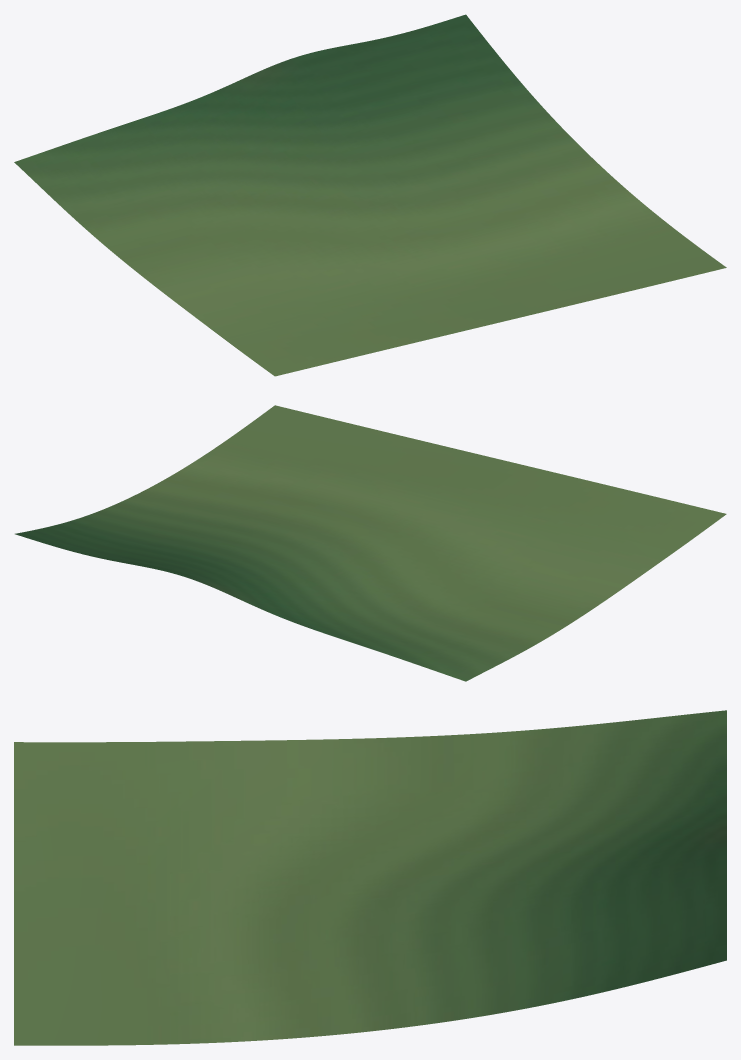
Rendered from terrain_T_W01_N05.glb.
3 views of the same model, one above another, from view 1: azimuth 30°, elevation 25°; view 2: azimuth 150°, elevation 25°; view 3: azimuth 270°, elevation 25° (orthographic). The views are drawn at different scales.
Parts seen in each view (by area): view 1: Terrain_T_W01_N05; view 2: Terrain_T_W01_N05; view 3: Terrain_T_W01_N05.
Part boxes in pixels (x1,y1,x2,y2): Terrain_T_W01_N05: (14,14,726,376); Terrain_T_W01_N05: (15,405,726,681); Terrain_T_W01_N05: (14,710,726,1045).
Bounding box in the file's own units: 2000 × 264 × 2000.
Materials: 1 (1 with a texture image).
